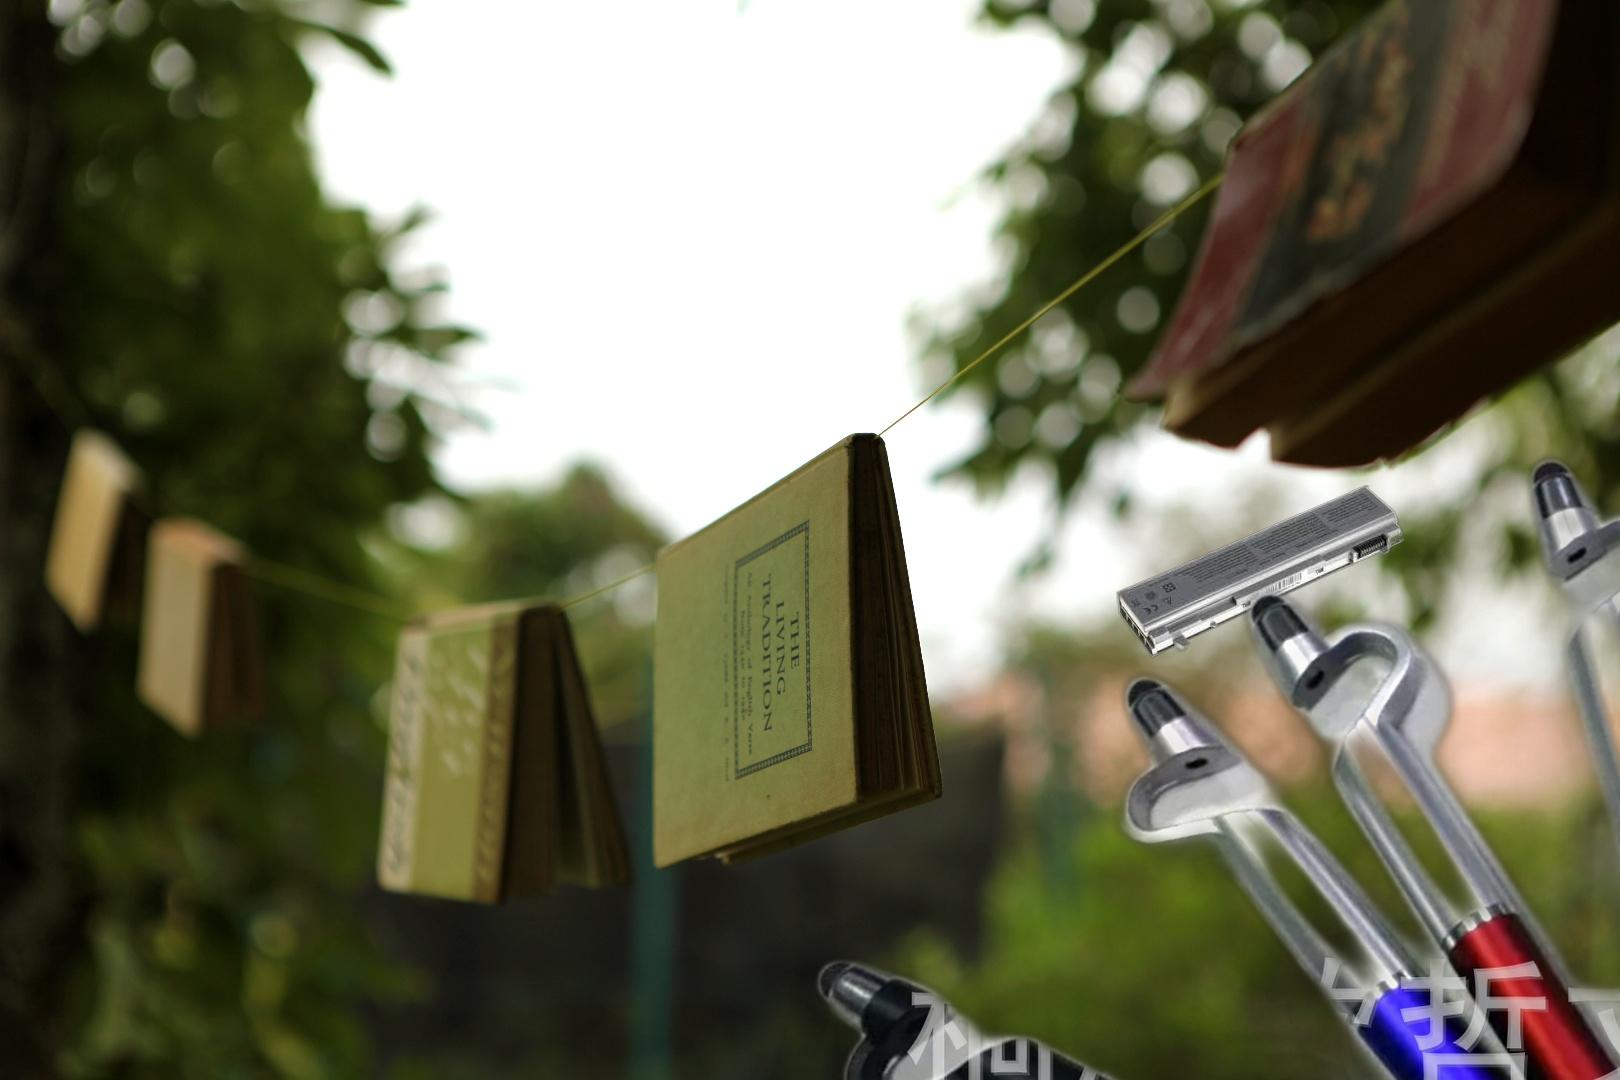battery: (1116, 485, 1405, 659)
penholder: (800, 47, 1620, 1080)
trashbox-cardboard: (1027, 1060, 1620, 1080)
